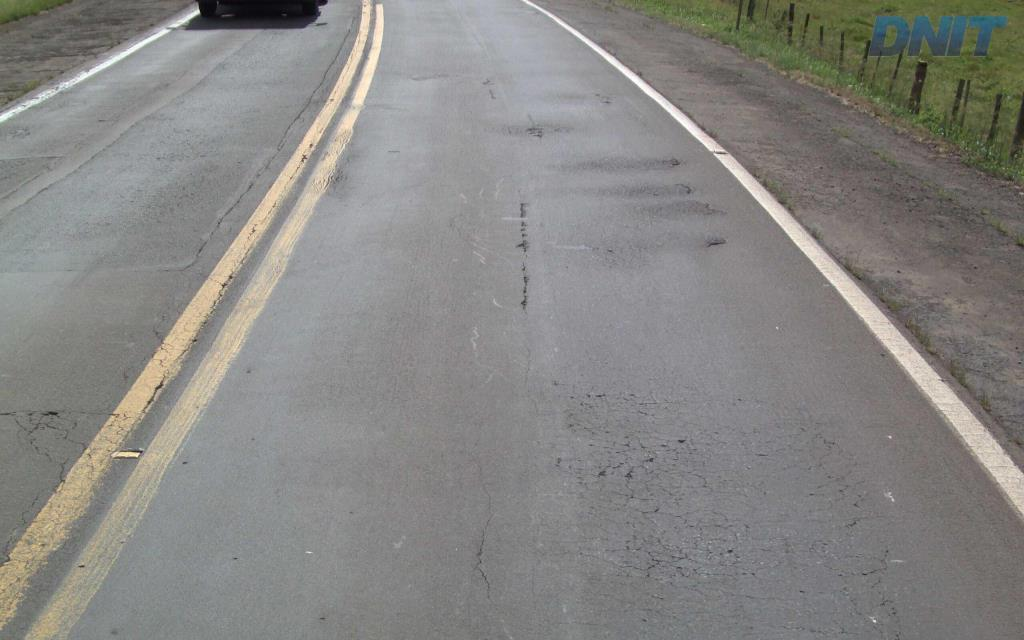crack: (619, 550, 697, 579)
